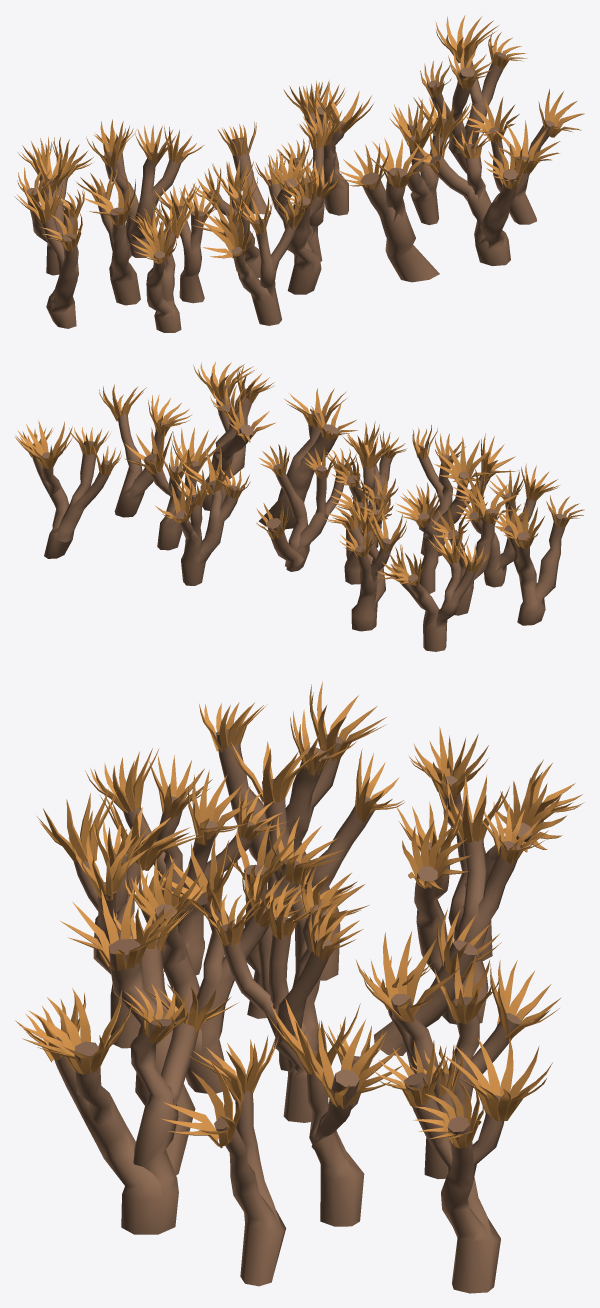
The model's file is coral_anemones_plants_B_dense.fbx.
The picture shows the model from 3 angles, top to bottom: view 1: azimuth 30°, elevation 25°; view 2: azimuth 150°, elevation 25°; view 3: azimuth 270°, elevation 25°; orthographic projection. The views are drawn at different scales.
Parts seen in each view (by area): view 1: coral_anemones_plant_B_A, coral_anemones_plant_B_C, coral_anemones_plant_B_D, coral_anemones_plant_B_N, coral_anemones_plant_B_E, coral_anemones_plant_B_B, coral_anemones_plant_B_H, coral_anemones_plant_B_F, coral_anemones_plant_B_J, coral_anemones_plant_B_I, coral_anemones_plant_B_M, coral_anemones_plant_B_G (+5 smaller); view 2: coral_anemones_plant_B_D, coral_anemones_plant_B_I, coral_anemones_plant_B_H, coral_anemones_plant_B_G, coral_anemones_plant_B_E, coral_anemones_plant_B_A, coral_anemones_plant_B_C, coral_anemones_plant_B_L, coral_anemones_plant_B_J, coral_anemones_plant_B_N, coral_anemones_plant_B_F, coral_anemones_plant_B_P (+5 smaller); view 3: coral_anemones_plant_B_A, coral_anemones_plant_B_D, coral_anemones_plant_B_E, coral_anemones_plant_B_B, coral_anemones_plant_B_I, coral_anemones_plant_B_J, coral_anemones_plant_B_F, coral_anemones_plant_B_P, coral_anemones_plant_B_L, coral_anemones_plant_B_C, coral_anemones_plant_B_H, coral_anemones_plant_B_N (+5 smaller).
Part boxes in pixels (x1,y1,x2,y2): coral_anemones_plant_B_A: [413, 120, 560, 265]; coral_anemones_plant_B_C: [191, 193, 305, 325]; coral_anemones_plant_B_D: [420, 15, 527, 173]; coral_anemones_plant_B_N: [338, 138, 439, 282]; coral_anemones_plant_B_E: [86, 119, 204, 257]; coral_anemones_plant_B_B: [254, 147, 342, 294]; coral_anemones_plant_B_H: [14, 179, 84, 328]; coral_anemones_plant_B_F: [128, 201, 194, 332]; coral_anemones_plant_B_J: [389, 96, 472, 225]; coral_anemones_plant_B_I: [283, 80, 374, 215]; coral_anemones_plant_B_M: [76, 167, 140, 305]; coral_anemones_plant_B_G: [17, 136, 93, 275]; coral_anemones_plant_B_D: [15, 420, 122, 558]; coral_anemones_plant_B_I: [155, 446, 250, 585]; coral_anemones_plant_B_H: [493, 495, 584, 625]; coral_anemones_plant_B_G: [376, 527, 490, 651]; coral_anemones_plant_B_E: [324, 494, 406, 631]; coral_anemones_plant_B_A: [193, 362, 275, 510]; coral_anemones_plant_B_C: [412, 425, 518, 556]; coral_anemones_plant_B_L: [259, 444, 356, 571]; coral_anemones_plant_B_J: [124, 426, 222, 550]; coral_anemones_plant_B_N: [258, 388, 358, 529]; coral_anemones_plant_B_F: [451, 463, 559, 587]; coral_anemones_plant_B_P: [99, 384, 192, 517]; coral_anemones_plant_B_A: [15, 983, 238, 1234]; coral_anemones_plant_B_D: [373, 1036, 552, 1293]; coral_anemones_plant_B_E: [396, 776, 548, 1024]; coral_anemones_plant_B_B: [122, 837, 303, 1093]; coral_anemones_plant_B_I: [355, 931, 561, 1179]; coral_anemones_plant_B_J: [266, 998, 401, 1226]; coral_anemones_plant_B_F: [85, 748, 286, 975]; coral_anemones_plant_B_P: [161, 1035, 286, 1286]; coral_anemones_plant_B_L: [204, 880, 362, 1122]; coral_anemones_plant_B_C: [37, 789, 203, 1048]; coral_anemones_plant_B_H: [199, 681, 386, 916]; coral_anemones_plant_B_N: [59, 886, 195, 1175].
Size of the model in its own units: 468 by 115 by 257.
